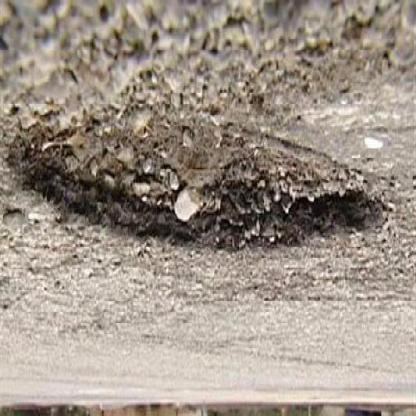pothole: (7, 77, 388, 255)
